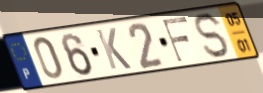0: (33, 35, 66, 82)
2: (127, 21, 167, 71)
6: (60, 31, 94, 77)
F: (161, 15, 193, 64)
K: (93, 26, 134, 72)
S: (194, 11, 231, 61)
